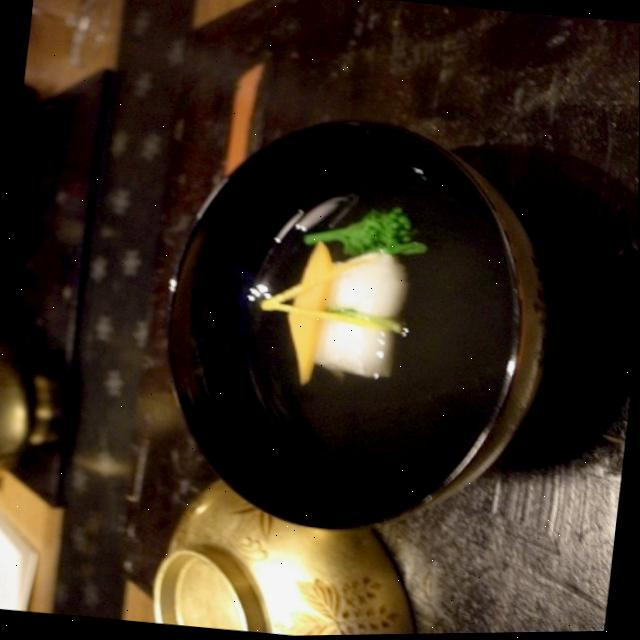汤锅炖物: (172, 98, 557, 544)
